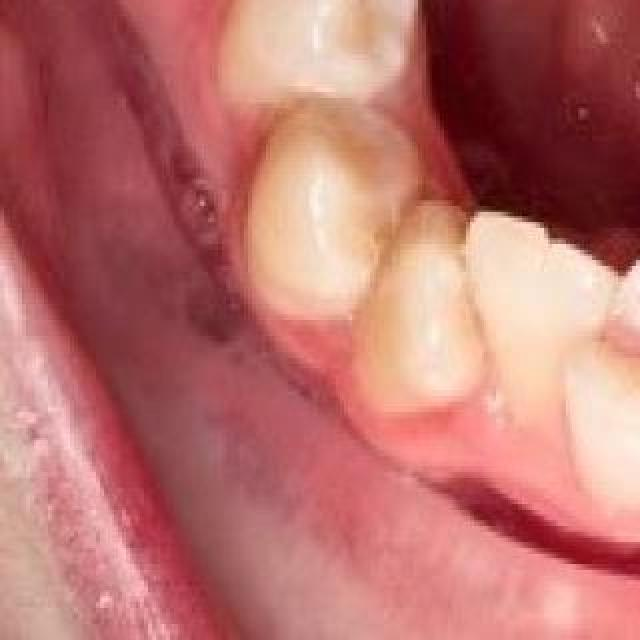maligned: (453, 196, 625, 382), (345, 214, 493, 404), (562, 348, 640, 494), (578, 174, 640, 350)
